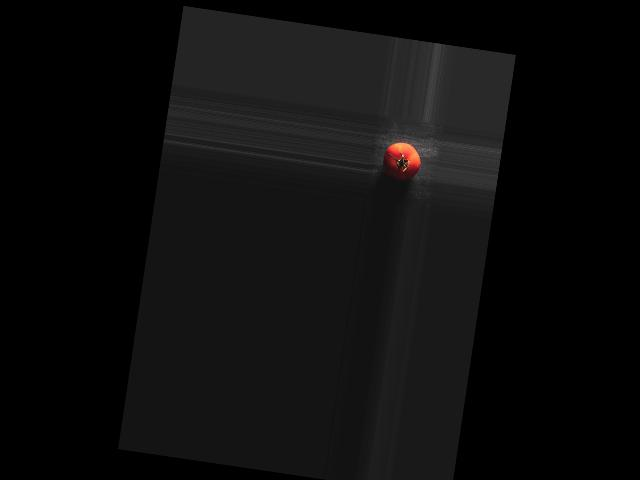tomato: (381, 140, 422, 182)
